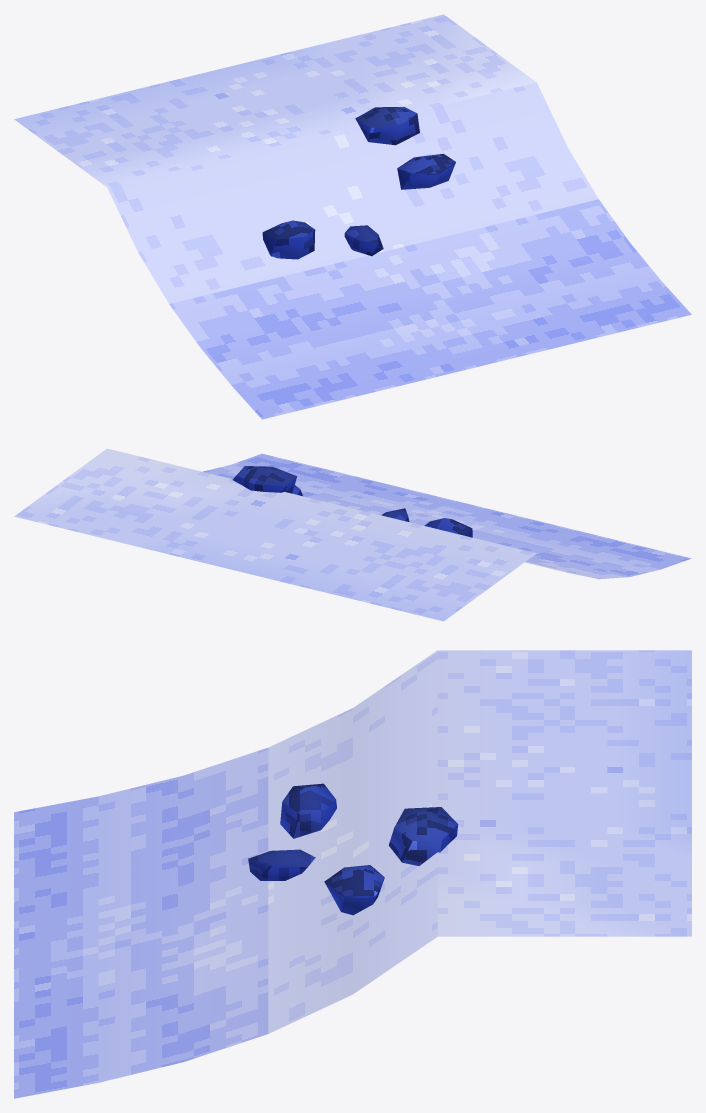
The model's file is lake.shore.glb.
3 views of the same model, one above another, from view 1: azimuth 30°, elevation 25°; view 2: azimuth 150°, elevation 25°; view 3: azimuth 270°, elevation 25° (orthographic). The views are drawn at different scales.
Visible parts, largest first — view 1: kit_shell_bank, kit_stones; view 2: kit_shell_bank, kit_stones; view 3: kit_shell_bank, kit_stones.
Part boxes in pixels (x1,y1,x2,y2): kit_shell_bank: (14,14,691,419); kit_stones: (262,107,455,259); kit_shell_bank: (14,448,691,621); kit_stones: (232,466,472,537); kit_shell_bank: (14,650,691,1098); kit_stones: (248,783,458,915).
Bounding box in the file's own units: 4 × 1.19 × 4.
Materials: 4 (4 with a texture image).
